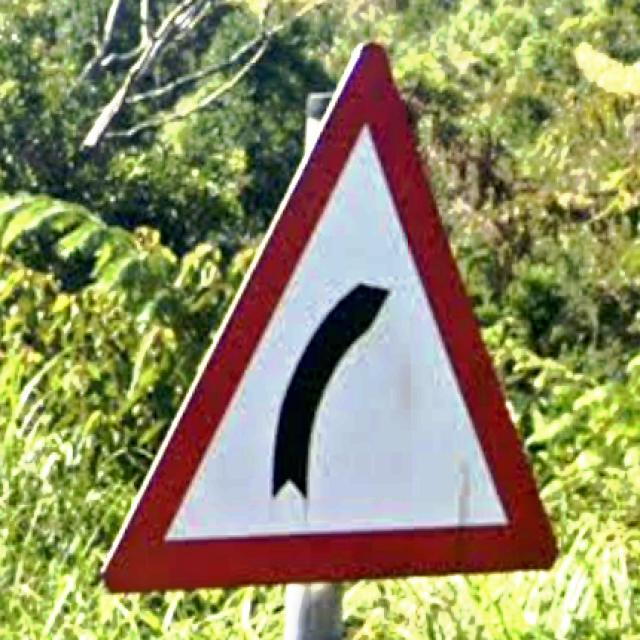rightbend: (103, 43, 561, 595)
